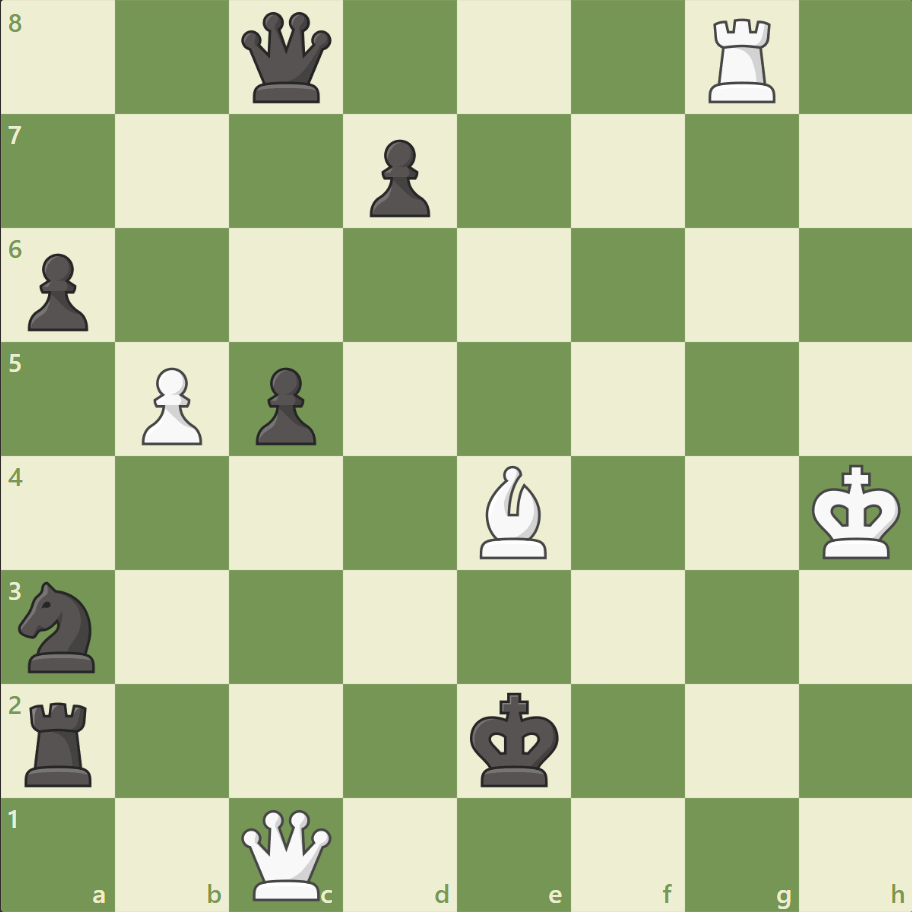B: (471, 460, 555, 563)
K: (806, 458, 906, 566)
P: (133, 359, 208, 450)
Q: (237, 804, 336, 903)
R: (700, 12, 783, 109)
k: (465, 685, 565, 793)
n: (11, 575, 108, 677)
p: (20, 246, 95, 337), (247, 359, 322, 450), (361, 132, 435, 223)
q: (237, 9, 336, 108)
r: (19, 693, 102, 790)
